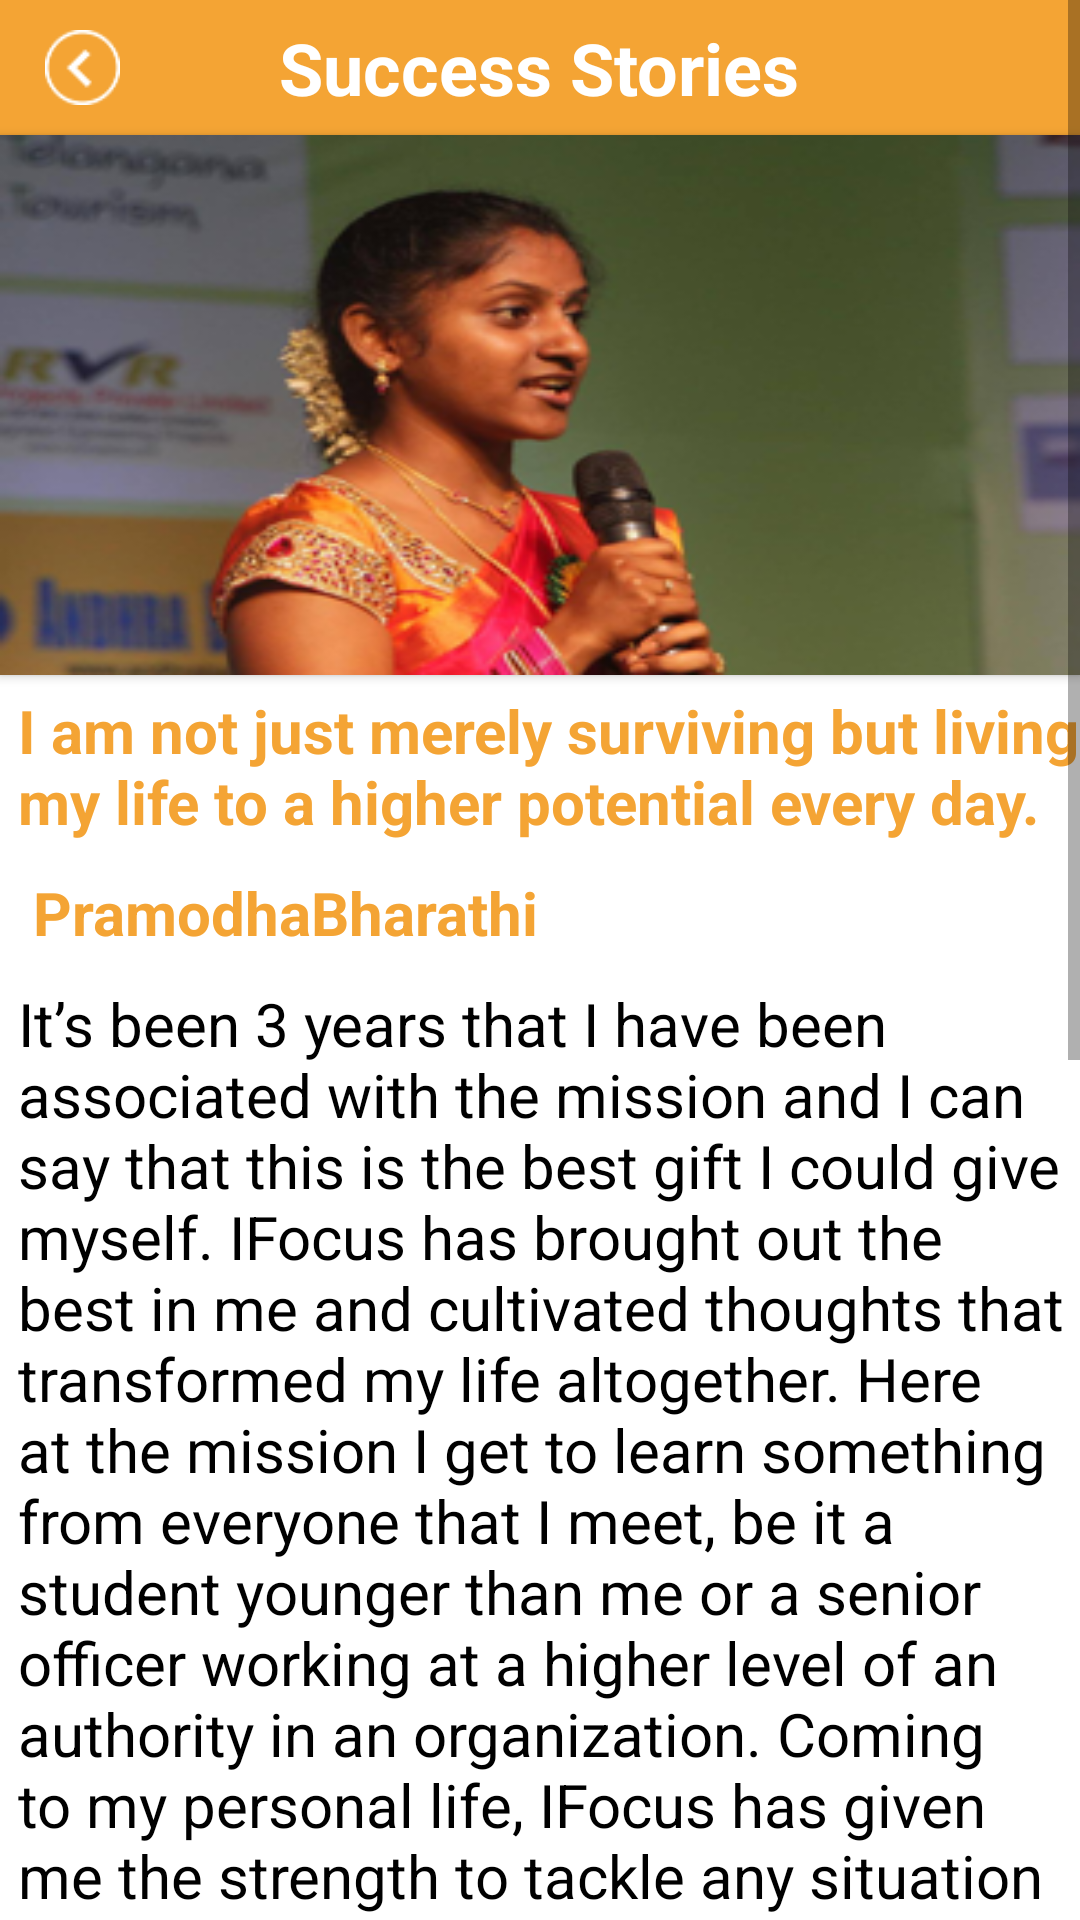

Where icons sit on this 1080×1920 app screen, as box=[x1, y1, x2, y2]:
back: box=[45, 30, 120, 105]
